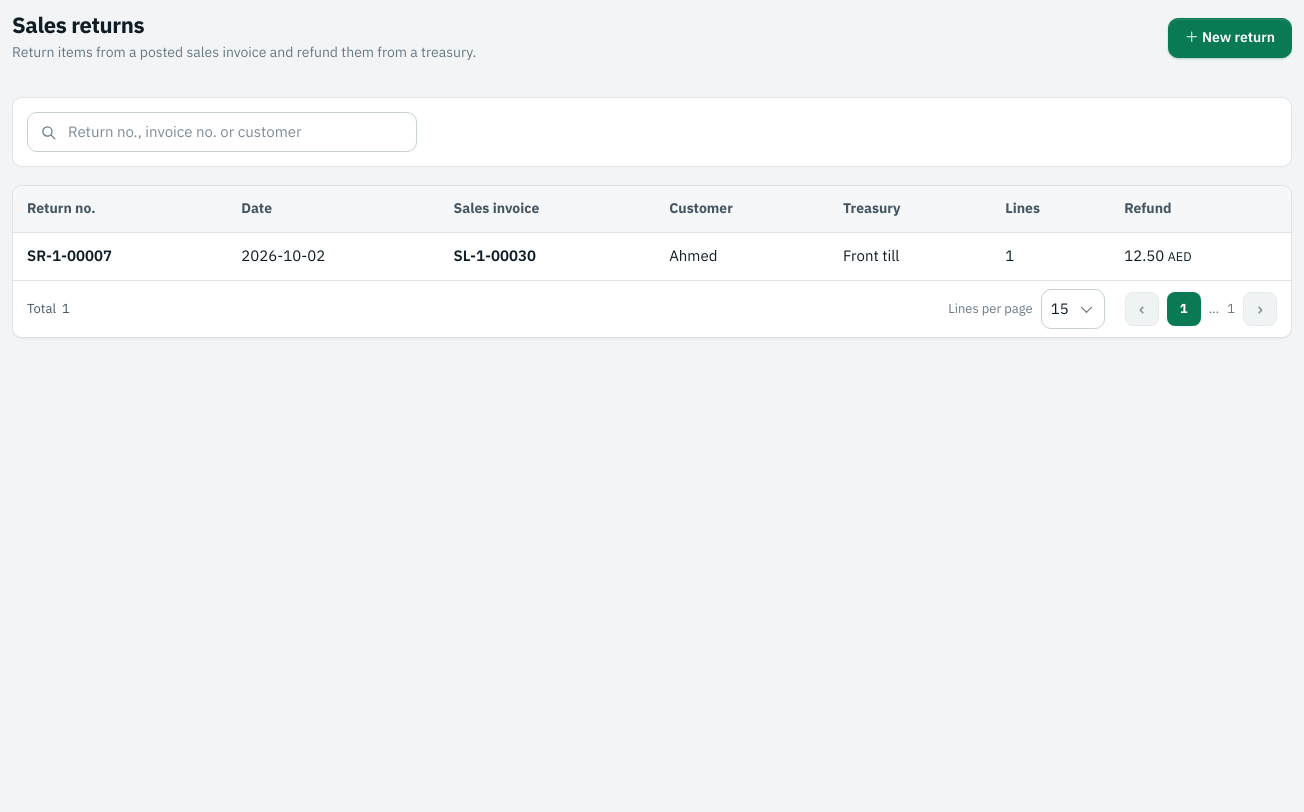
SalesReturnsPage › explains a quantity over what is left instead of sending it
This screenshot has width=1304, height=812.
Click the button "＋ New return" at (1230, 38), box [1168,18,1292,58]
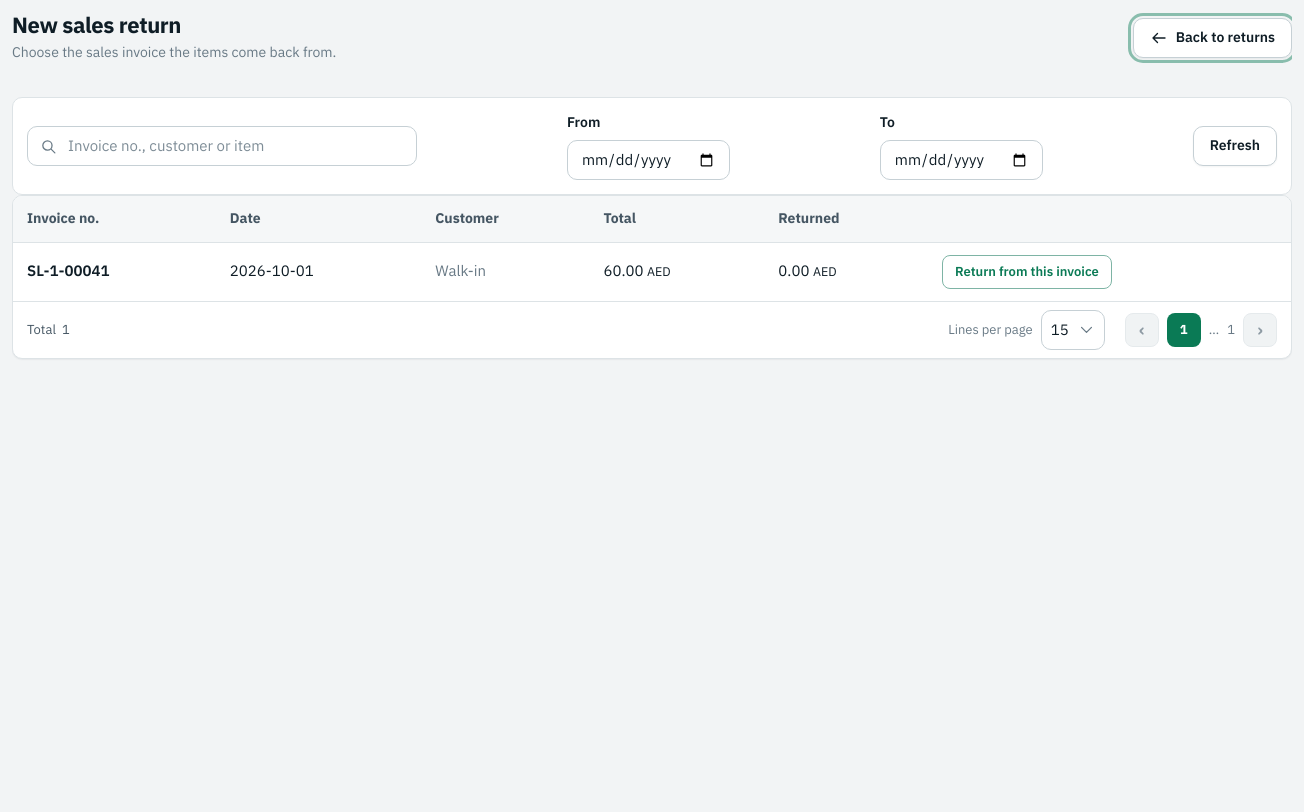
Click the button "Return from this invoice" at (1027, 272), box [942,255,1112,289]
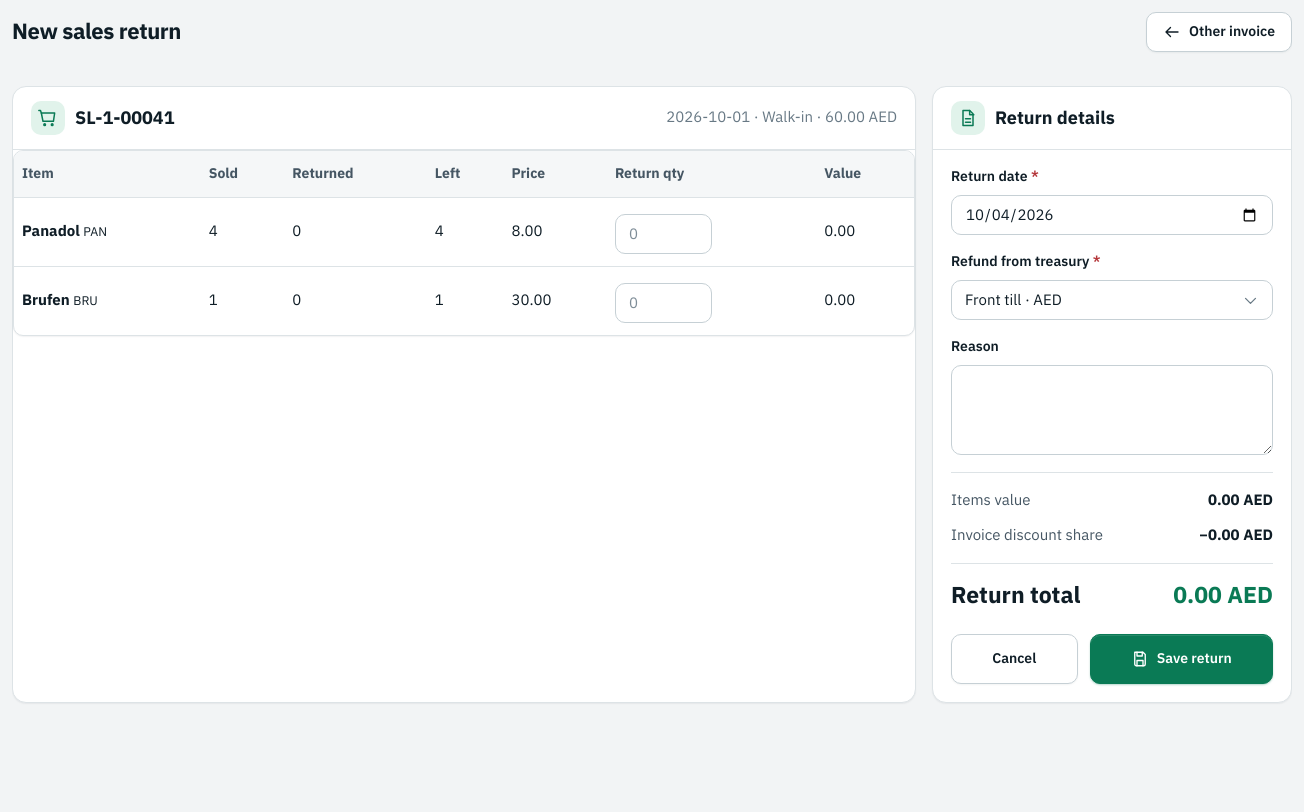
Check: the heading "SL-1-00041" is shown, box [75,104,174,132]
Type "2" into the number field named "Return quantity for Brufen" at (664, 303), box [615,283,712,323]
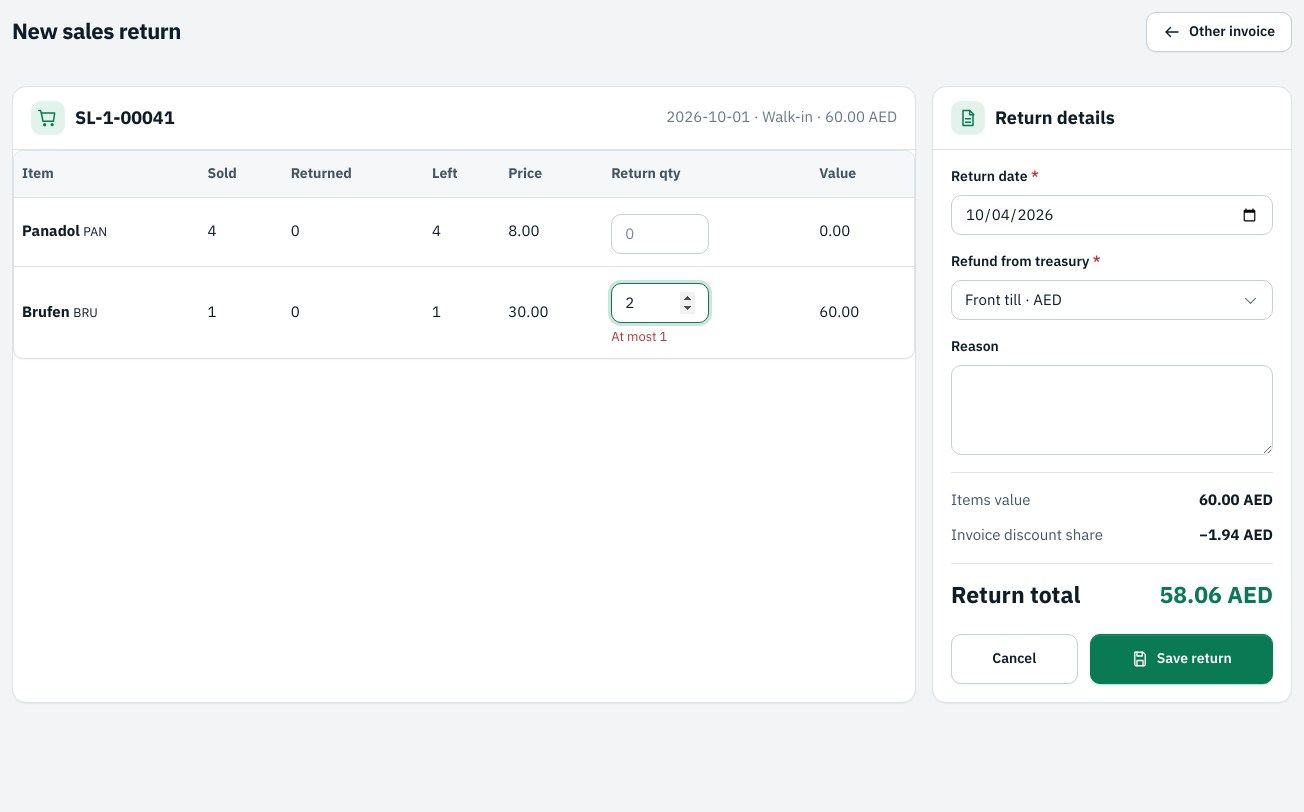
Check: the text "At most 1" is shown, box [611,327,667,346]
Click the button "Save return" at (1181, 659), box [1090,634,1273,684]
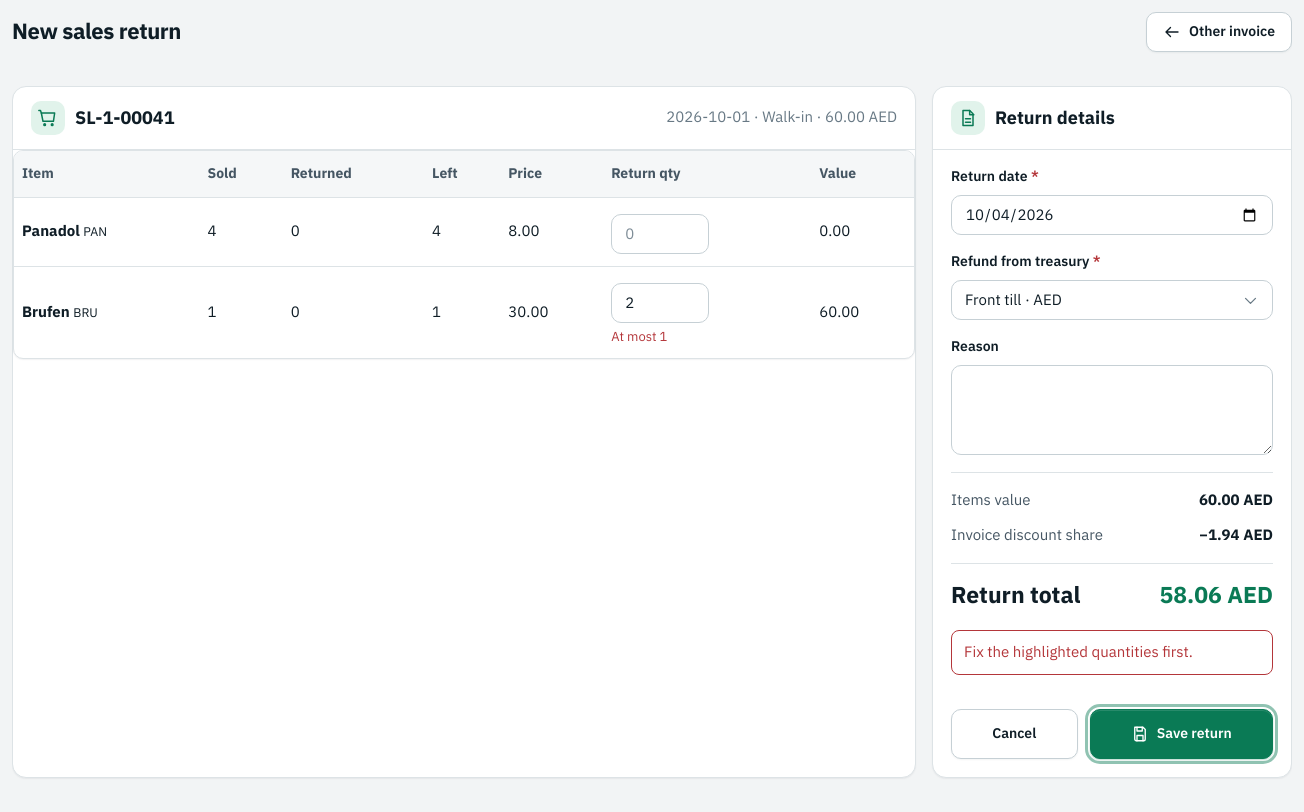
Check: the message reads "Fix the highlighted quantities first.", box [964,641,1193,663]
